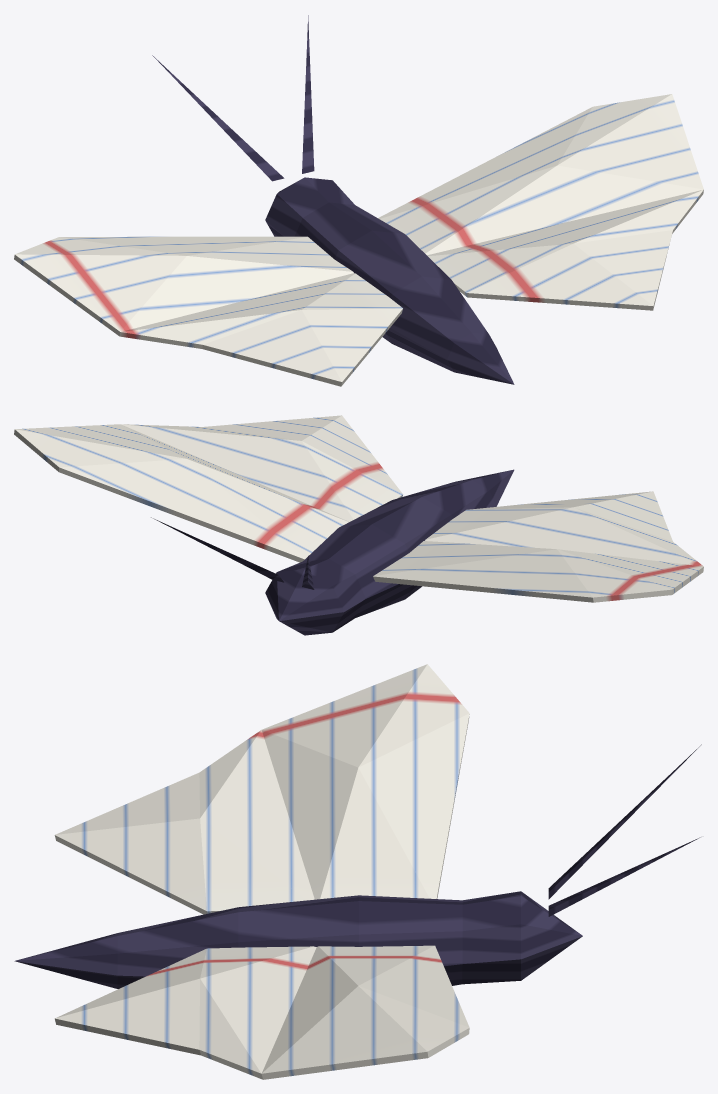
File: PolillaPapel.fbx
3 views of the same model, one above another, from view 1: azimuth 30°, elevation 25°; view 2: azimuth 150°, elevation 25°; view 3: azimuth 270°, elevation 25° (orthographic). The views are drawn at different scales.
Visible parts, largest first — view 1: AlaDer, AlaIzq, Cuerpo; view 2: AlaDer, AlaIzq, Cuerpo; view 3: AlaIzq, AlaDer, Cuerpo.
Boxes of the visible parts, bbox=[...] form: AlaDer: bbox=[378, 94, 703, 310]; AlaIzq: bbox=[14, 236, 402, 386]; Cuerpo: bbox=[152, 15, 514, 384]; AlaDer: bbox=[14, 415, 402, 562]; AlaIzq: bbox=[373, 491, 703, 602]; Cuerpo: bbox=[151, 469, 514, 635]; AlaIzq: bbox=[54, 664, 469, 914]; AlaDer: bbox=[54, 945, 469, 1079]; Cuerpo: bbox=[14, 744, 701, 988].
Bounding box in the file's own units: 2.66 × 0.666 × 2.
1 material, 1 textured.
